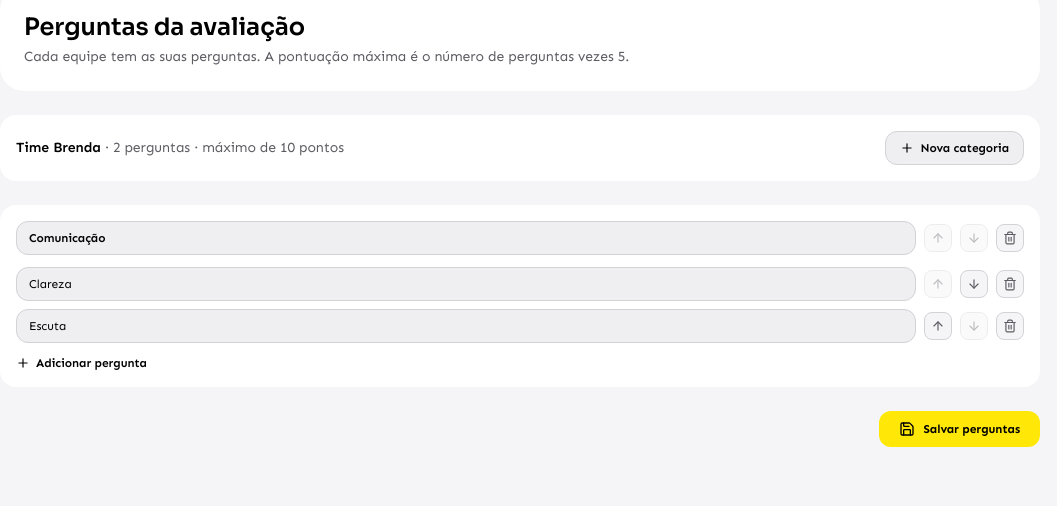
Test: aba Perguntas › mostra o máximo e atualiza ao adicionar uma pergunta (+5)
Check: the text "· 2 perguntas · máximo de 10 pontos" is shown, box [101,139,344,156]
Click the button "Adicionar pergunta": (81, 363) [16,355,147,371]
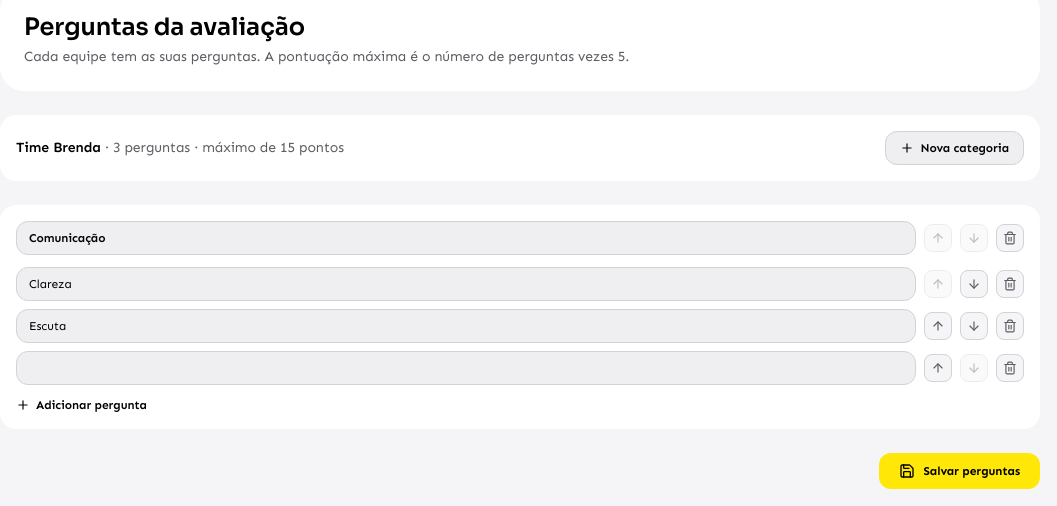
Check: the text "· 3 perguntas · máximo de 15 pontos" is shown, box [101,139,344,156]
